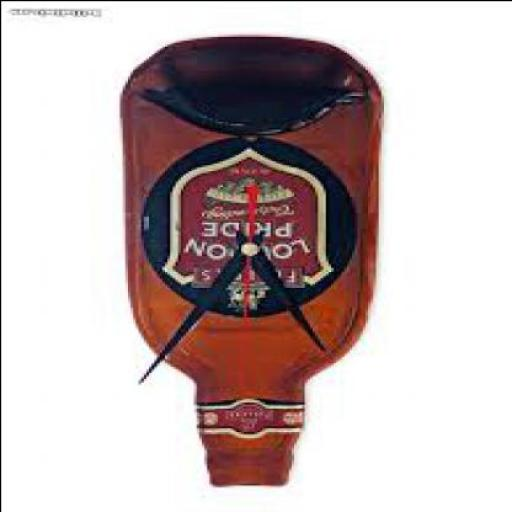glass: (122, 38, 384, 488)
